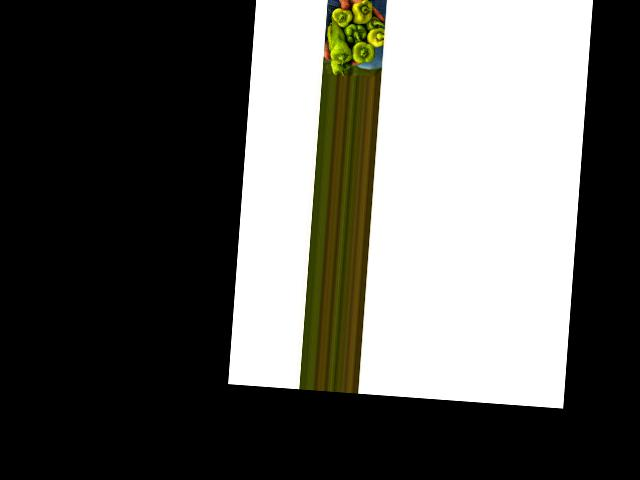bell_pepper: (352, 0, 375, 26)
